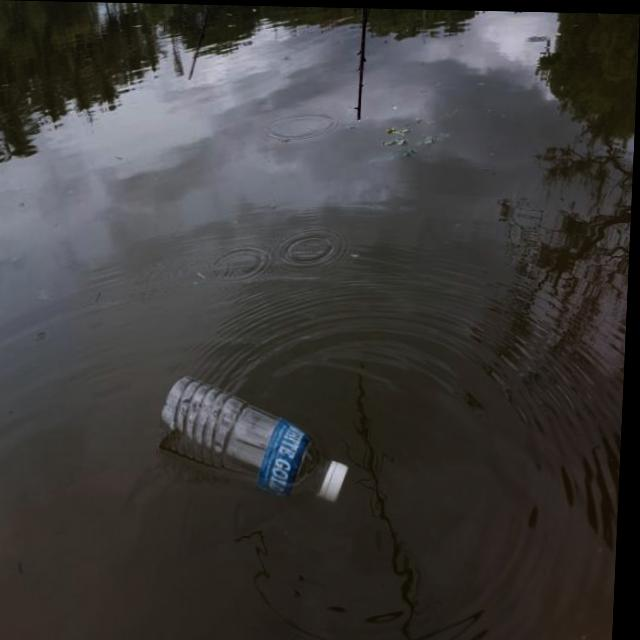waterbottle: (150, 354, 379, 504)
